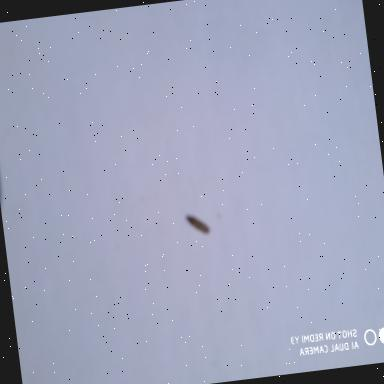pbw: (183, 209, 212, 241)
